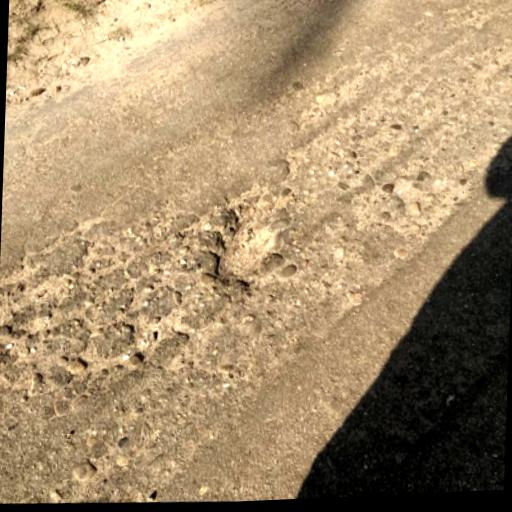pothole: (208, 209, 276, 290)
